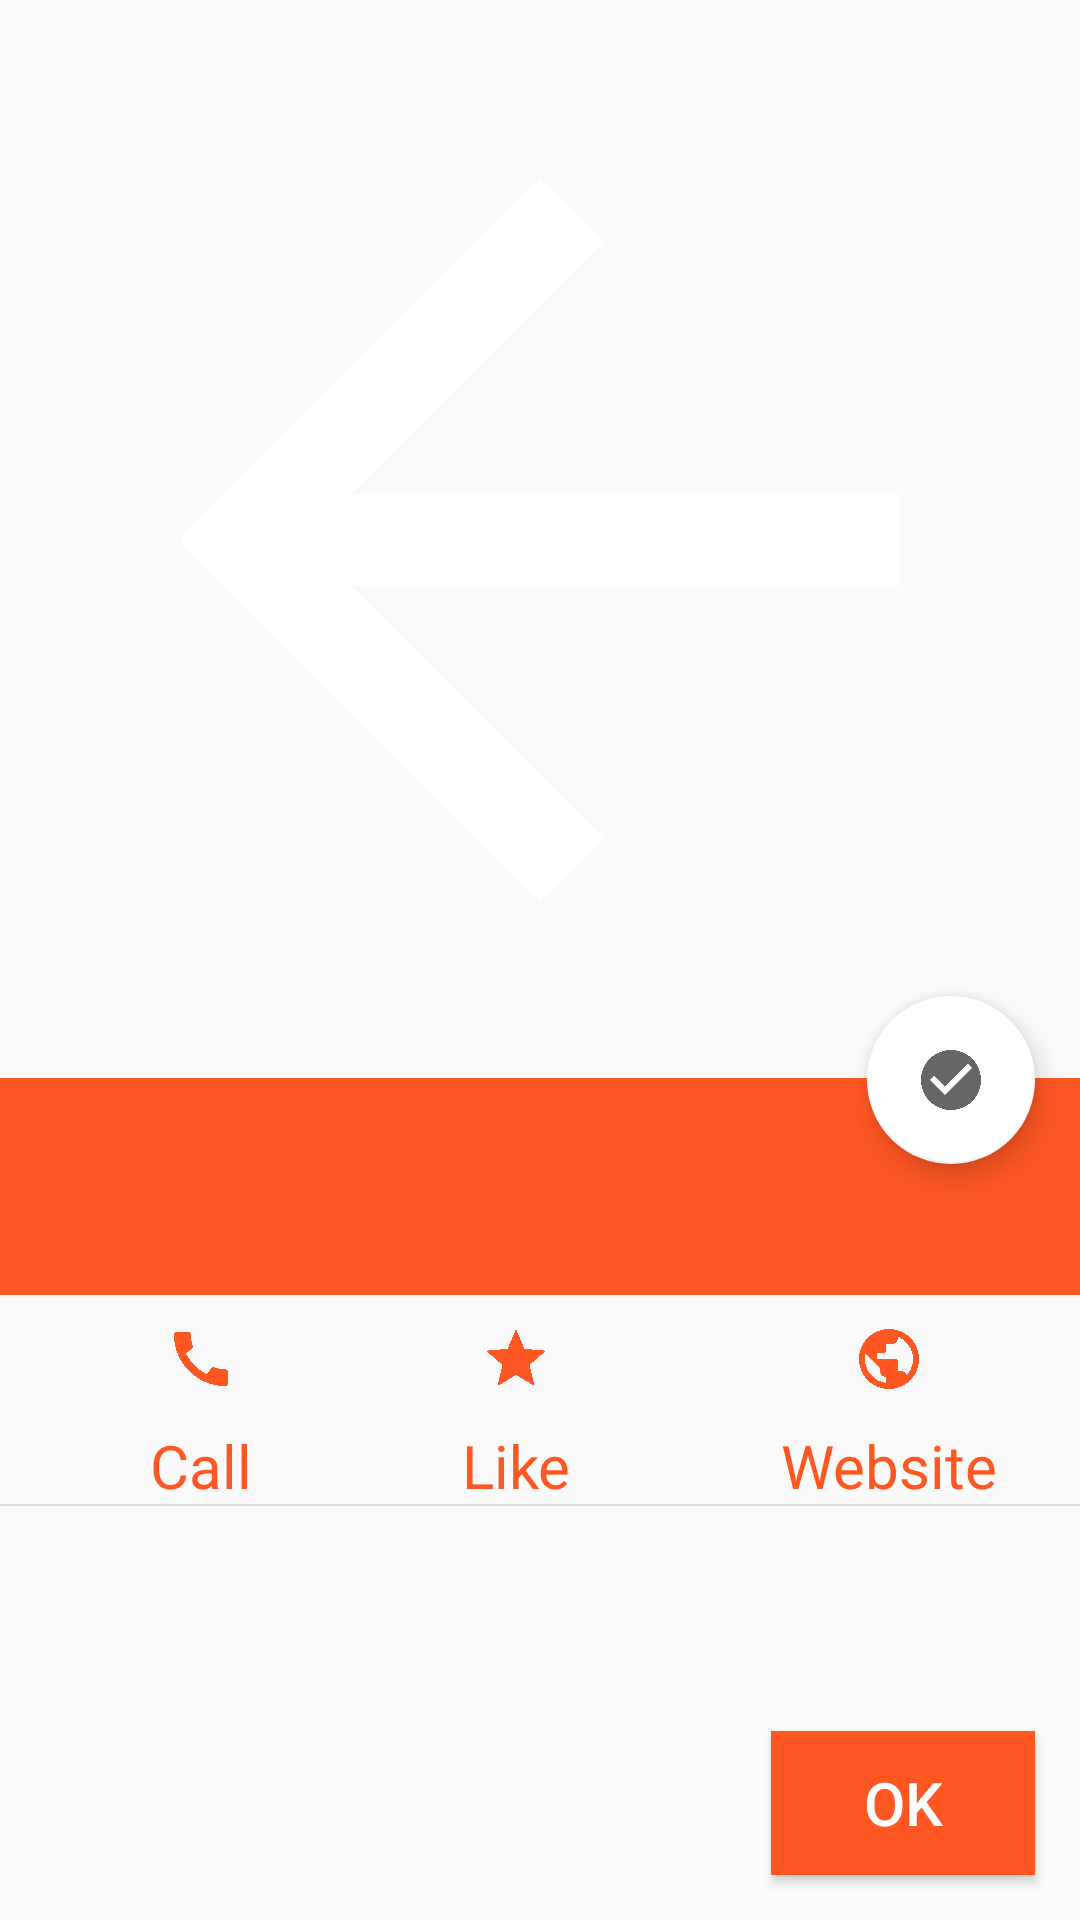

Icons on this 1080px x 1920px Android screen, each with the point to tap as (x=x, y=y):
check circle: (x=951, y=1080)
public: (x=889, y=1359)
star: (x=516, y=1357)
